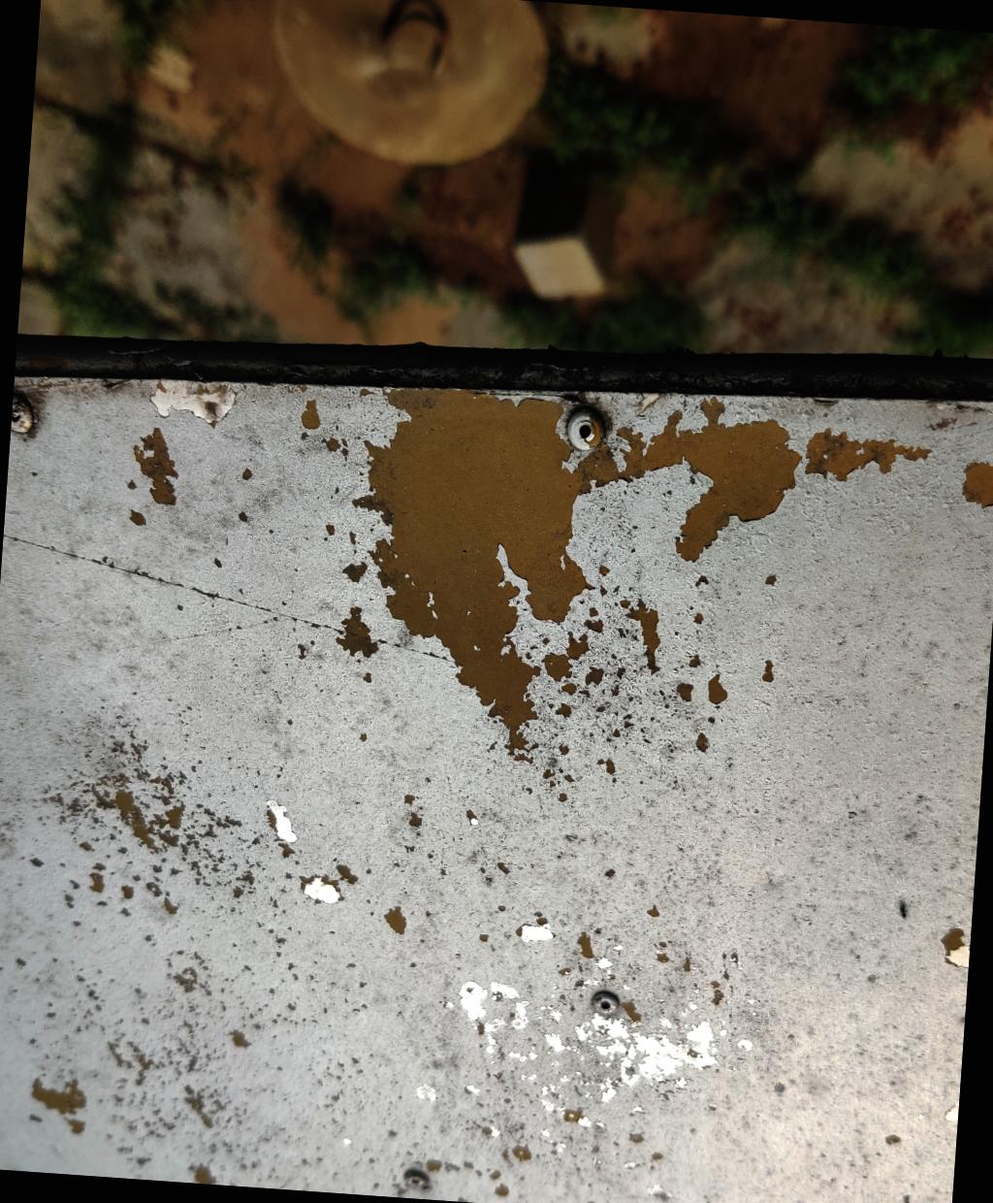corrosion: (329, 363, 993, 797)
